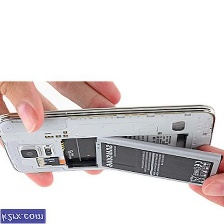phone: (0, 103, 224, 177)
